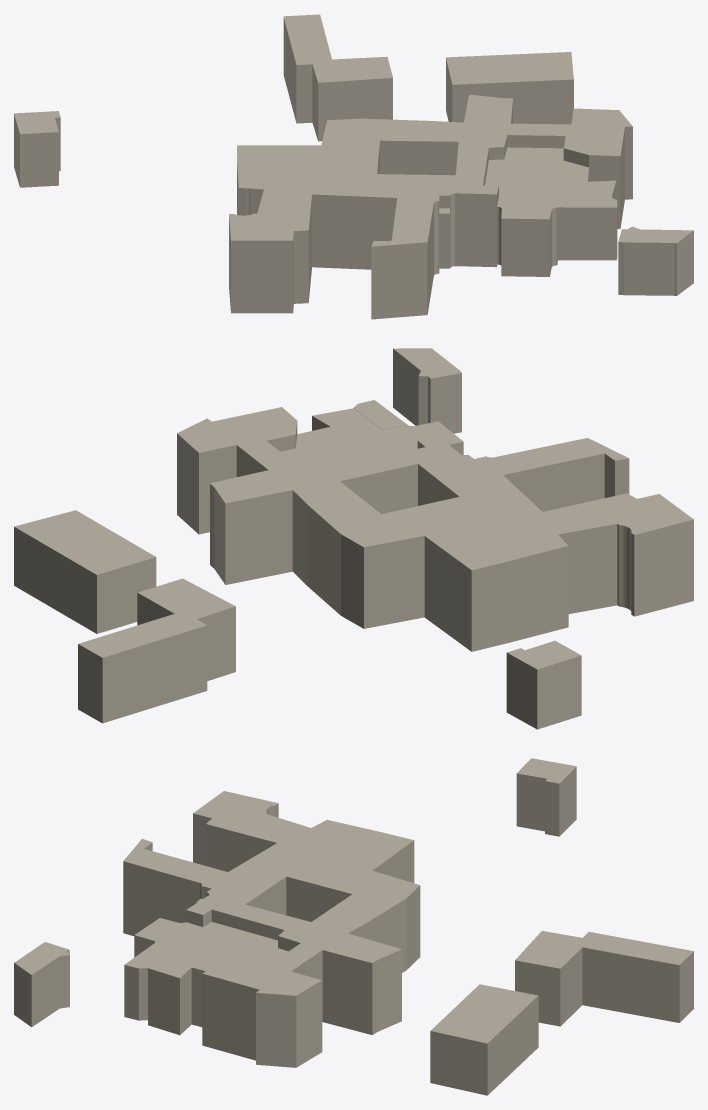
Rendered from kalkara_66_27_collision.glb.
The picture shows the model from 3 angles, top to bottom: view 1: azimuth 30°, elevation 25°; view 2: azimuth 150°, elevation 25°; view 3: azimuth 270°, elevation 25°; orthographic projection. The views are drawn at different scales.
Visible parts, largest first — view 1: geometry_0; view 2: geometry_0; view 3: geometry_0.
Boxes of the visible parts, box(x1,y1,x2,y2) form: geometry_0: box(14, 14, 693, 319); geometry_0: box(14, 348, 693, 729); geometry_0: box(14, 758, 693, 1095).
Size of the model in its own units: 111 by 16.99 by 125.
